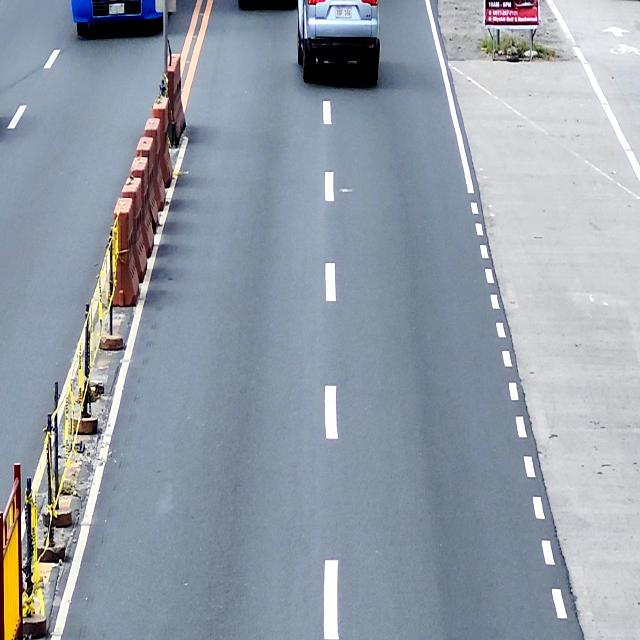Car: (296, 0, 381, 84), (70, 0, 177, 36)
License-Plate: (332, 4, 354, 21)
